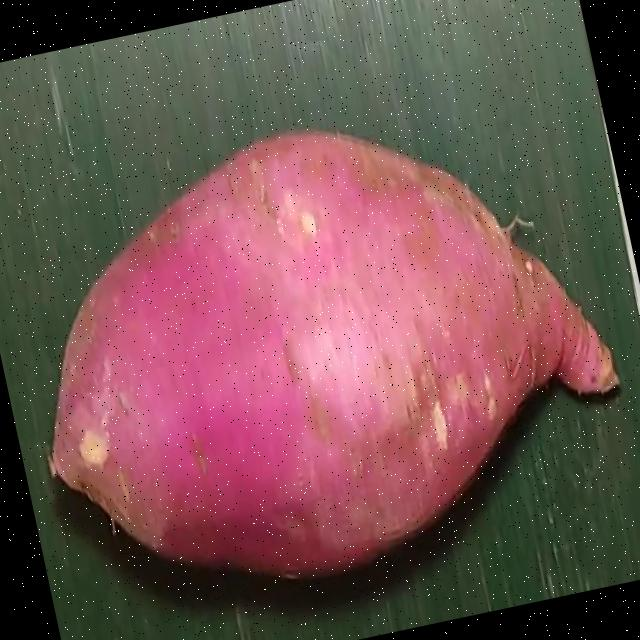Sweet Potato: (51, 129, 621, 576)
